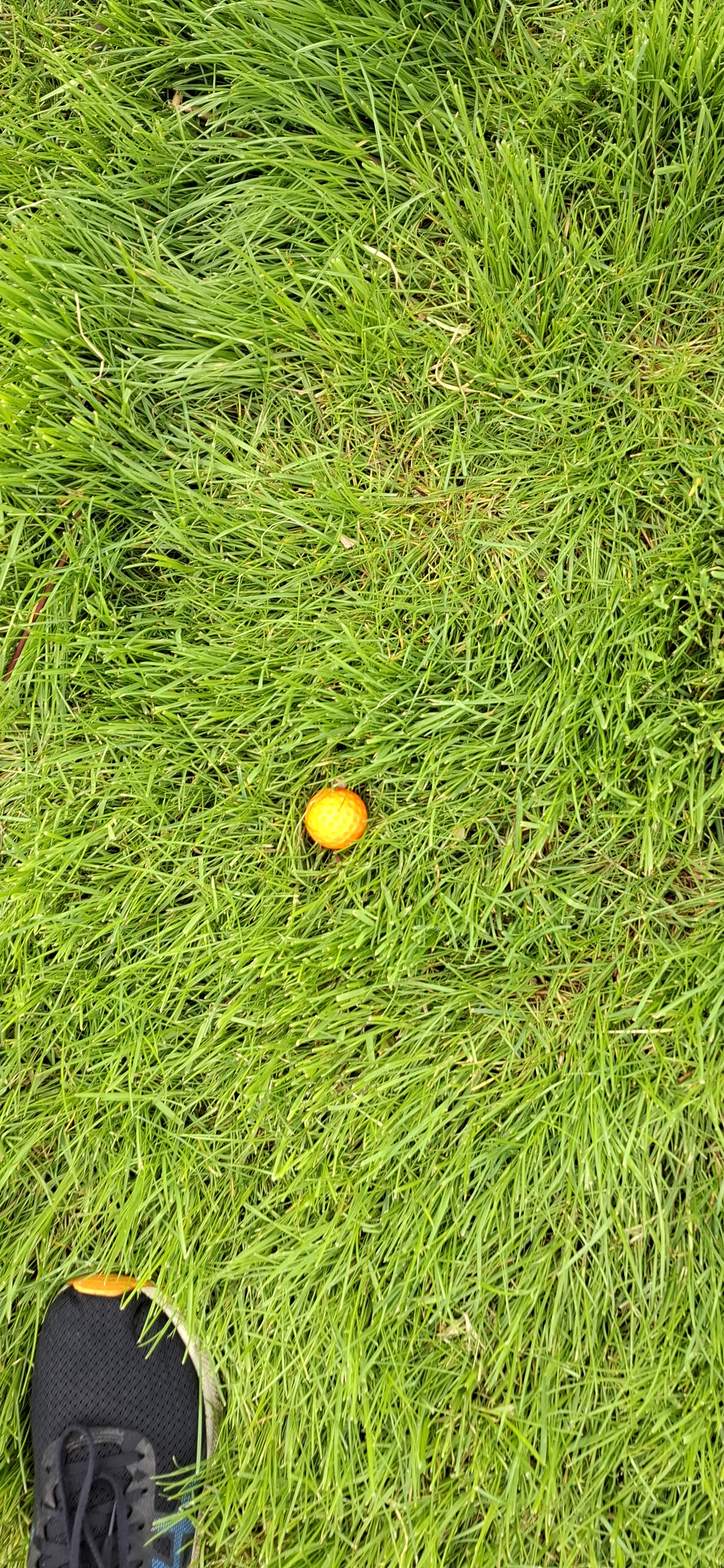ball: (364, 771, 393, 908)
